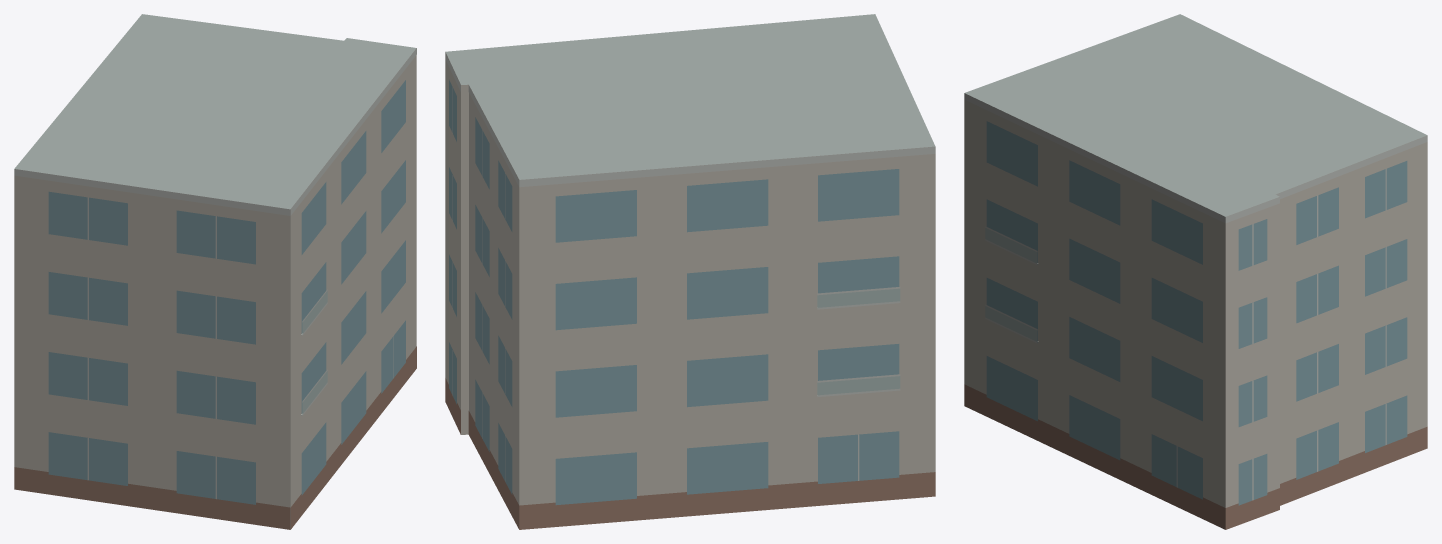
Rendered from survey-upis-32624892.glb.
The picture shows the model from 3 angles, left to right: view 1: azimuth 30°, elevation 25°; view 2: azimuth 150°, elevation 25°; view 3: azimuth 270°, elevation 25°; orthographic projection. The views are drawn at different scales.
Parts seen in each view (by area): view 1: survey-upis-32624892.tmp; view 2: survey-upis-32624892.tmp; view 3: survey-upis-32624892.tmp.
Boxes of the visible parts, bbox=[...] form: survey-upis-32624892.tmp: bbox=[14, 14, 416, 529]; survey-upis-32624892.tmp: bbox=[445, 14, 935, 529]; survey-upis-32624892.tmp: bbox=[964, 14, 1427, 529].
Bounding box in the file's own units: 16.27 × 11.7 × 15.7.
